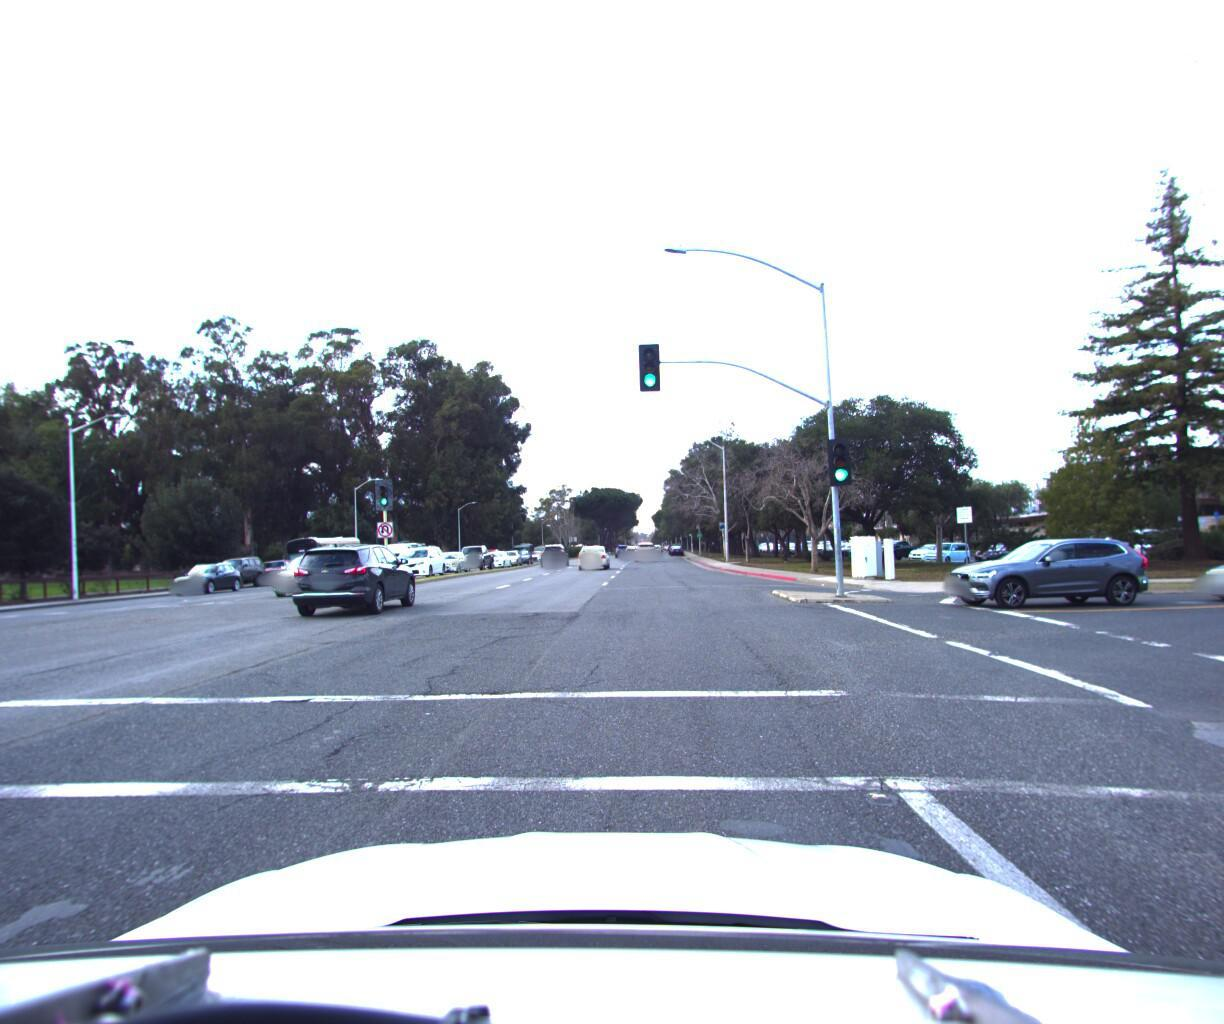bus: (288, 528, 369, 578)
car: (929, 528, 1154, 609), (287, 540, 427, 617), (266, 547, 359, 596), (1174, 528, 1224, 603), (163, 557, 247, 594), (201, 551, 269, 588), (388, 539, 449, 575), (252, 554, 312, 581), (450, 538, 496, 567), (426, 544, 472, 571), (577, 534, 611, 565), (538, 537, 569, 562), (478, 544, 513, 564), (631, 536, 655, 556), (509, 544, 533, 560), (618, 535, 638, 552)
other_vehicle: (380, 534, 431, 570)
